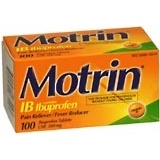grozi_18: (2, 26, 160, 132)
